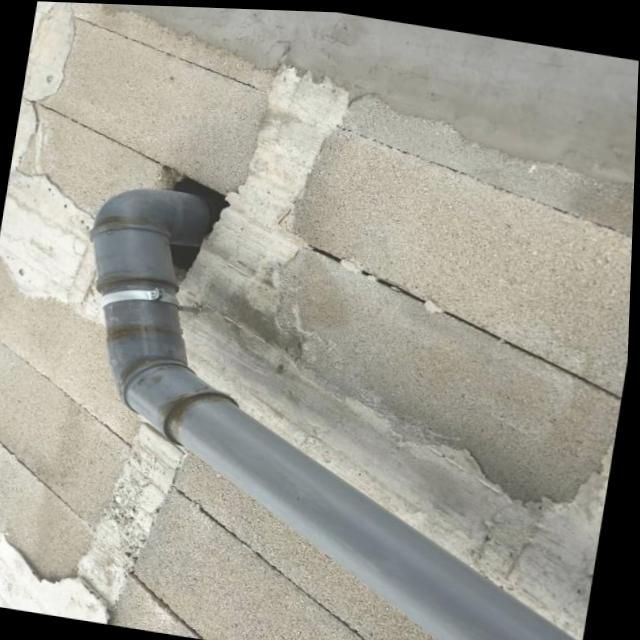leak: (163, 388, 236, 443)
